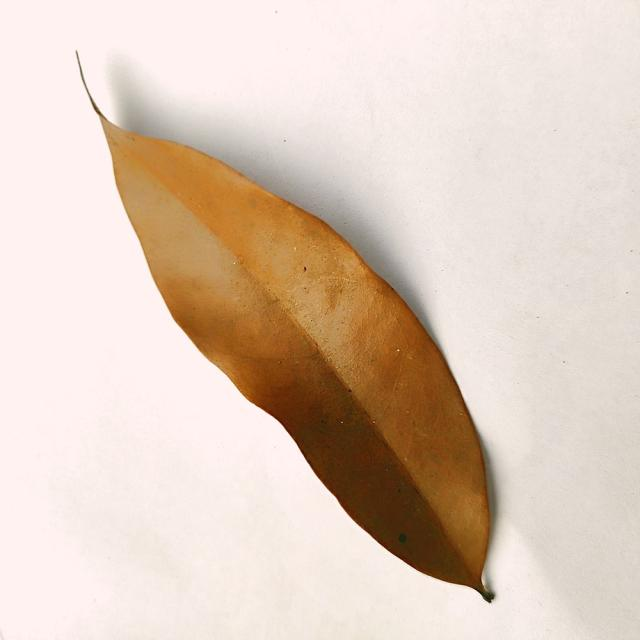Dry_Leaf-Lychee: (96, 109, 495, 600)
